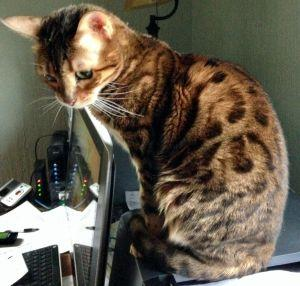bengal: (1, 1, 119, 114)
